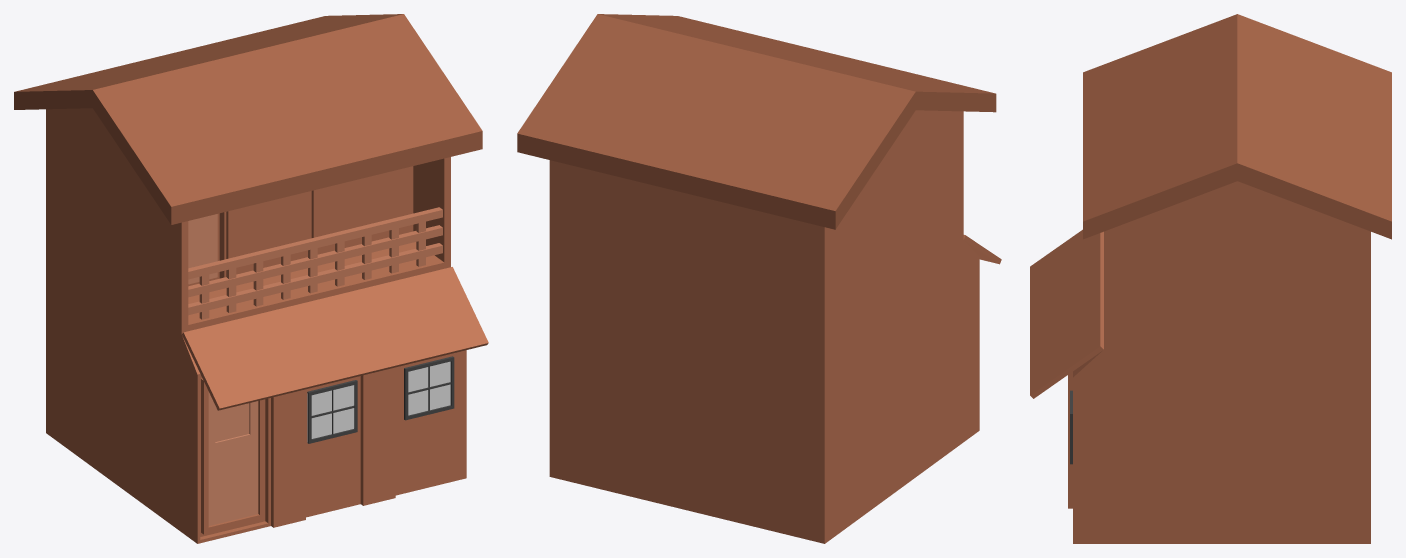
File: House_33.fbx
The picture shows the model from 3 angles, left to right: view 1: azimuth 30°, elevation 25°; view 2: azimuth 150°, elevation 25°; view 3: azimuth 270°, elevation 25°; orthographic projection. The views are drawn at different scales.
Visible parts, largest first — view 1: House_33_Body; view 2: House_33_Body; view 3: House_33_Body.
Boxes of the visible parts, x1=… form: House_33_Body: x1=14, y1=14, x2=488, y2=543; House_33_Body: x1=517, y1=14, x2=1001, y2=543; House_33_Body: x1=1030, y1=14, x2=1391, y2=543.
Bounding box in the file's own units: 509 × 622 × 522.
